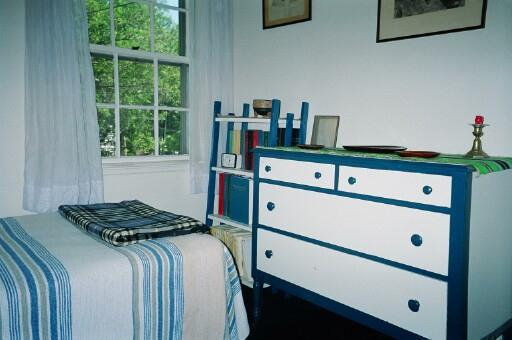Armario: (254, 148, 457, 339)
Cama: (4, 213, 250, 339)
Ventana: (64, 2, 191, 157)
